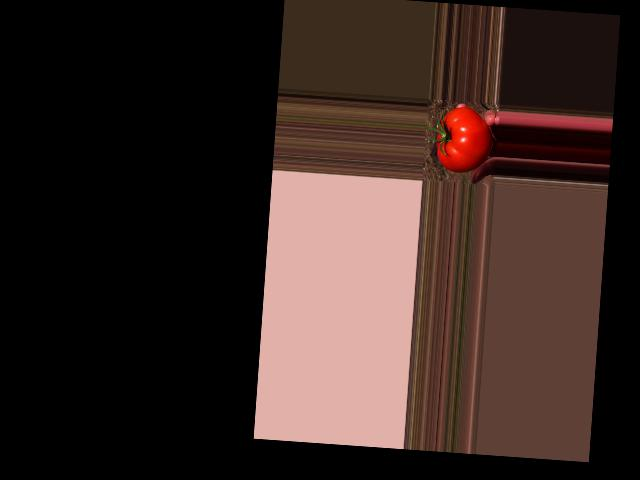tomato: (434, 105, 494, 174)
